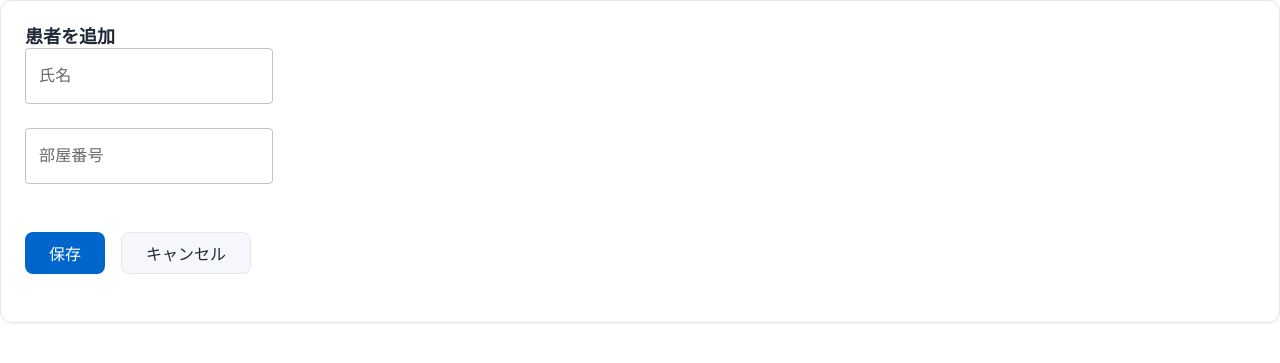
AddPatientForm › 氏名は入力済み、部屋番号は空欄
Type "testName" into the field labelled "氏名" at (149, 76), box [25,48,273,104]
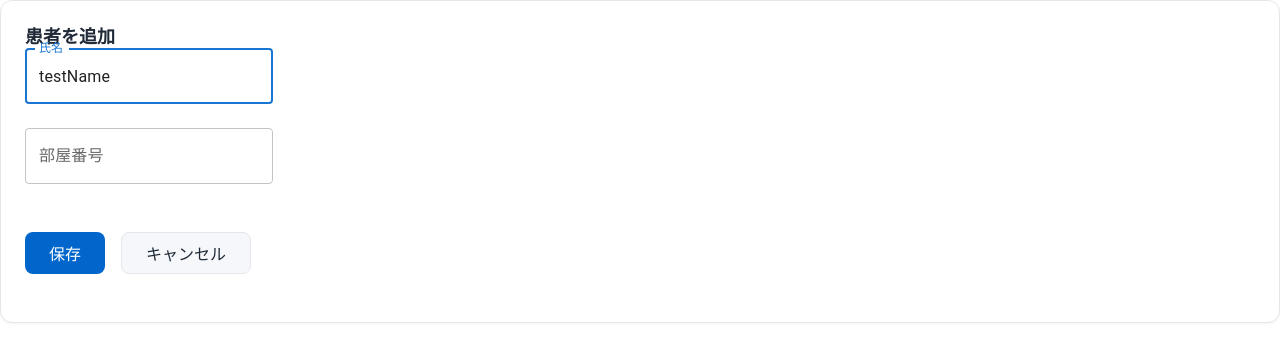
Click the button "保存" at (65, 253), box [25,232,105,274]
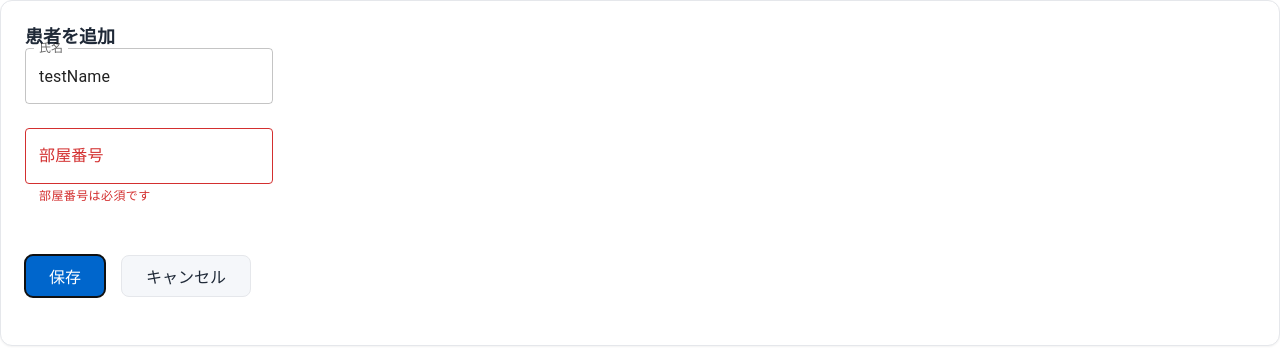
Expected: the text "部屋番号は必須です" is shown, [39,189,151,203]
